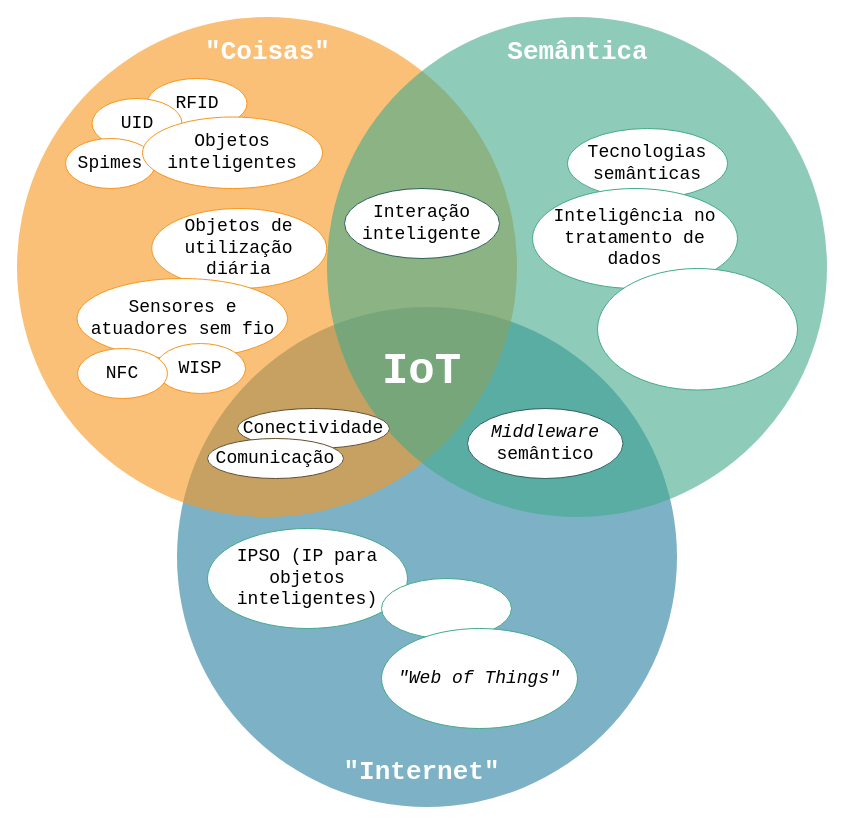
The diagram is 844 pixels wide and 824 high, and some of its shapes have lost their labels. Here are the shapes that lost their labels. From the top down, the centre of each, then its label:
At pixel 697 329: "Ambientes semânticos de execução".
At pixel 446 608: "Internet 0".
